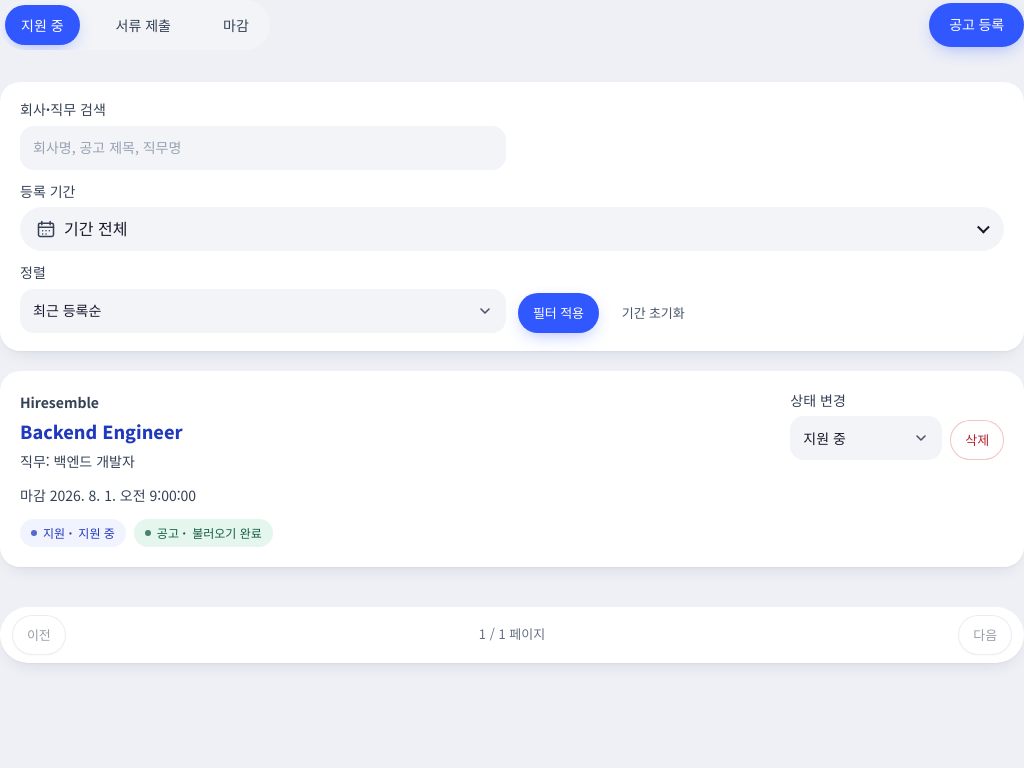
Test case: P5 Job pages › asks to retry a list deletion after a version conflict and treats 404 as deleted
Step 1. Click the button with test id "job-row-delete" → [977, 440], box [950, 420, 1004, 460]
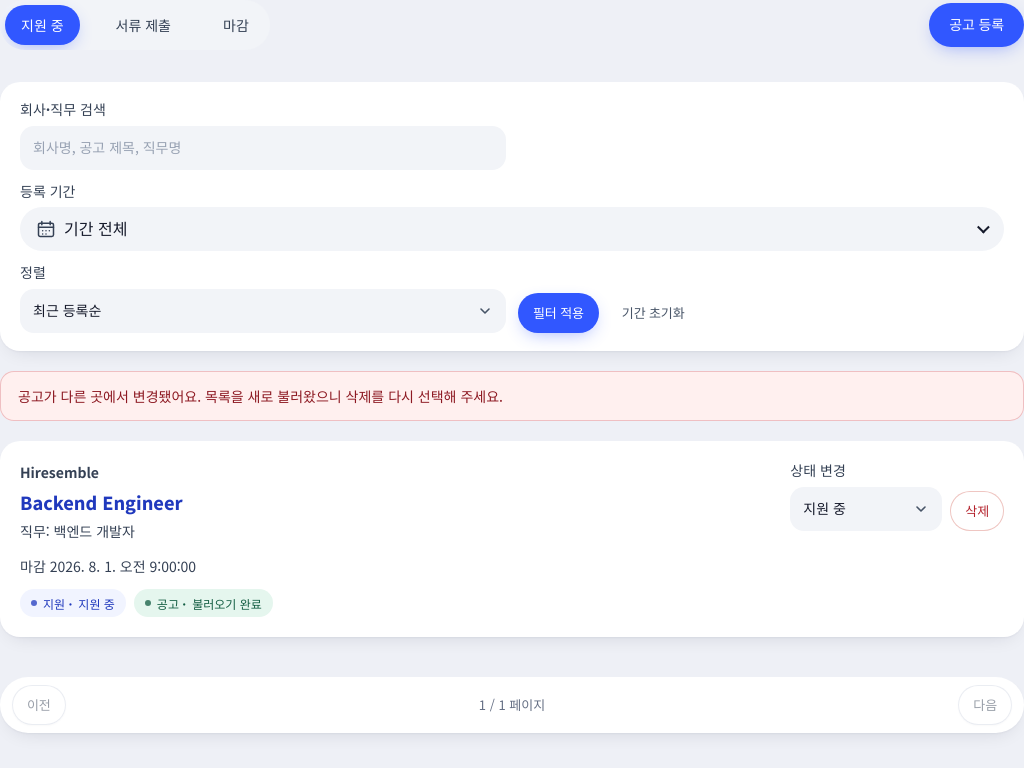
Now the message "공고가 다른 곳에서 변경됐어요. 목록을 새로 불러왔으니 삭제를 다시 선택해 주세요." is shown, box [0, 371, 1023, 421]
Step 2. Click the button with test id "job-row-delete" → [977, 511], box [950, 491, 1004, 531]
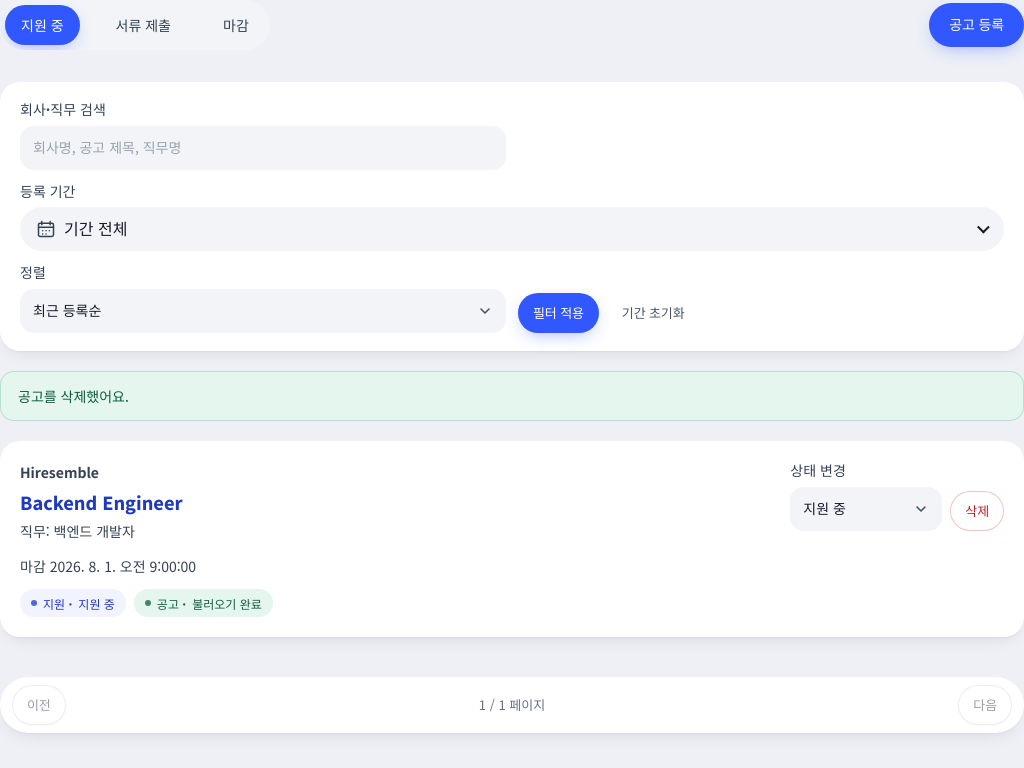
Now the message "공고를 삭제했어요." is shown, box [0, 371, 1023, 421]
